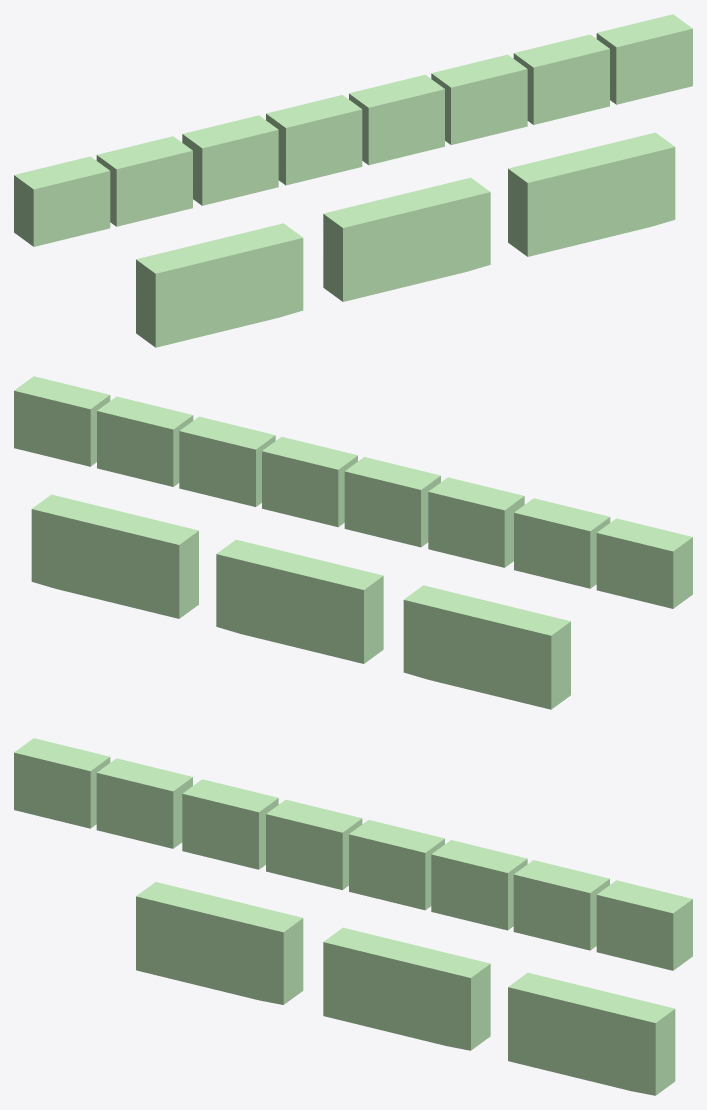
File: window_back.obj
The picture shows the model from 3 angles, top to bottom: view 1: azimuth 30°, elevation 25°; view 2: azimuth 150°, elevation 25°; view 3: azimuth 330°, elevation 25°; orthographic projection.
Visible parts, largest first — view 1: Cube.017; view 2: Cube.017; view 3: Cube.017.
Boxes of the visible parts, x1,y1,x2,y2 form: Cube.017: (14, 14, 692, 347); Cube.017: (14, 376, 692, 709); Cube.017: (14, 738, 692, 1095).
Bounding box in the file's own units: 41.56 × 11.33 × 2.16.
